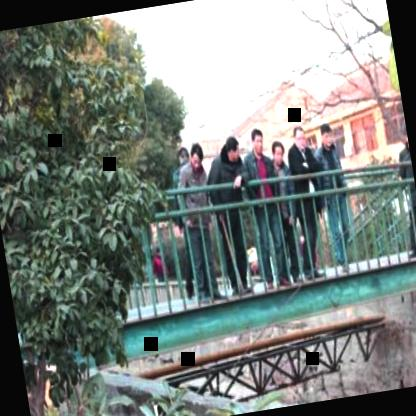head: (223, 132, 244, 164), (247, 123, 267, 156), (268, 136, 288, 168), (188, 138, 206, 172), (289, 123, 309, 152), (174, 143, 192, 173), (319, 121, 335, 148), (400, 120, 409, 151)
